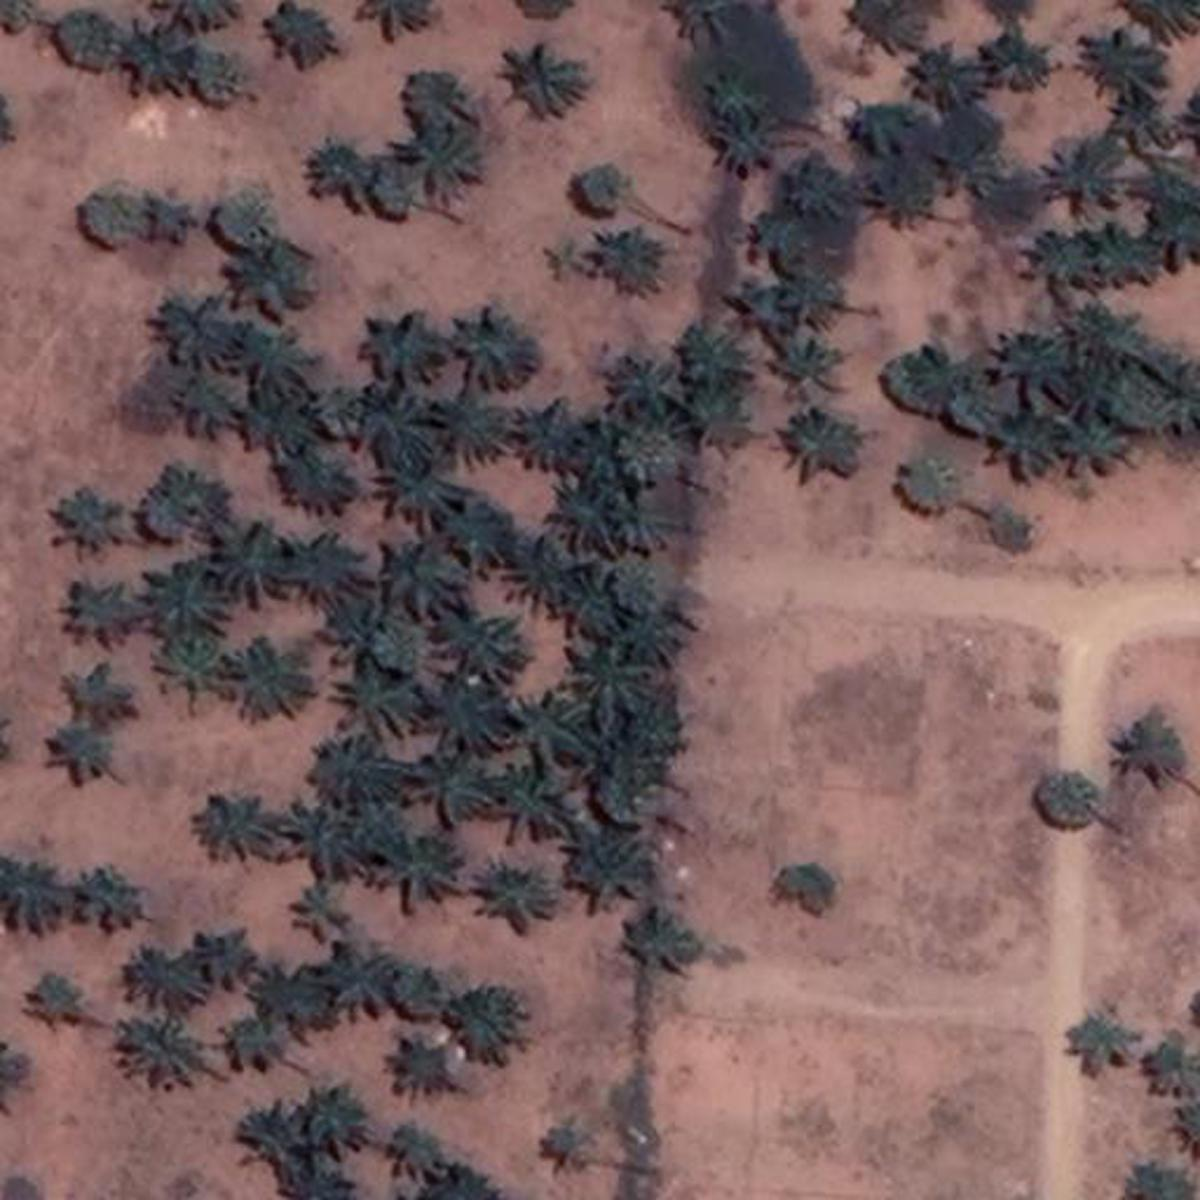coconut: (447, 623, 989, 942), (344, 373, 451, 462), (1042, 135, 1138, 232), (316, 595, 433, 673), (391, 121, 489, 213), (110, 1014, 222, 1095), (276, 515, 370, 607), (382, 543, 482, 625), (373, 832, 478, 909), (451, 307, 543, 393), (358, 316, 464, 391), (656, 325, 762, 400), (241, 318, 330, 405), (60, 571, 159, 649), (58, 653, 152, 735), (759, 330, 857, 405), (553, 468, 637, 555), (220, 248, 325, 318), (562, 834, 656, 911), (307, 747, 412, 815), (121, 16, 203, 103), (442, 984, 534, 1059), (232, 635, 318, 716), (213, 516, 288, 609), (149, 466, 238, 543), (327, 673, 431, 738), (119, 946, 215, 1016), (454, 382, 534, 466), (189, 787, 276, 864), (505, 42, 592, 116), (1115, 705, 1190, 792), (768, 405, 862, 475), (307, 133, 384, 216), (1082, 37, 1176, 105), (260, 956, 349, 1027), (914, 32, 991, 114), (1059, 302, 1149, 373), (32, 712, 124, 780), (762, 260, 874, 316), (1012, 229, 1092, 307), (785, 147, 862, 227), (53, 475, 127, 557), (4, 862, 77, 946), (520, 691, 590, 778), (232, 382, 325, 447), (285, 808, 363, 885), (590, 222, 663, 304), (389, 466, 468, 541), (505, 534, 576, 618), (147, 637, 236, 703), (442, 623, 527, 691), (332, 946, 405, 1024), (574, 653, 649, 727), (607, 353, 684, 426), (274, 464, 370, 522), (264, 0, 351, 65), (410, 752, 501, 813), (1033, 768, 1108, 843), (1047, 412, 1125, 482), (73, 860, 154, 927), (609, 549, 682, 623), (196, 927, 264, 1005), (895, 435, 963, 513), (431, 693, 525, 749), (503, 771, 581, 838), (614, 916, 703, 975), (386, 1038, 468, 1101), (157, 571, 232, 637), (1082, 234, 1174, 288), (403, 70, 482, 127), (162, 307, 232, 370), (710, 110, 778, 173), (307, 1080, 365, 1153), (1071, 1016, 1136, 1080), (986, 419, 1054, 478), (869, 164, 938, 222), (363, 0, 454, 44), (998, 327, 1068, 384), (604, 766, 675, 820), (241, 1105, 304, 1164), (269, 1157, 373, 1192), (996, 23, 1045, 93), (487, 871, 562, 918)
